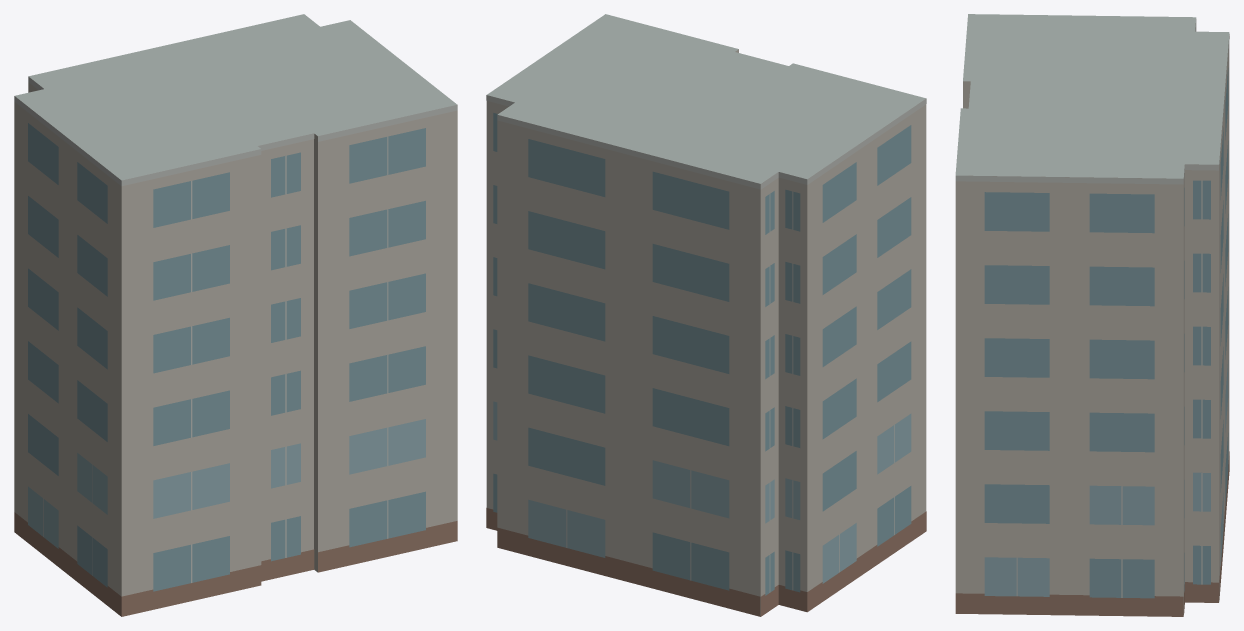
File: survey-upis-32925264.glb
3 renders of one model, left to right at view 1: azimuth 30°, elevation 25°; view 2: azimuth 150°, elevation 25°; view 3: azimuth 270°, elevation 25°, orthographic.
Parts seen in each view (by area): view 1: survey-upis-32925264.tmp; view 2: survey-upis-32925264.tmp; view 3: survey-upis-32925264.tmp.
Boxes of the visible parts, x1=… form: survey-upis-32925264.tmp: x1=14, y1=14, x2=457, y2=616; survey-upis-32925264.tmp: x1=486, y1=14, x2=926, y2=616; survey-upis-32925264.tmp: x1=955, y1=14, x2=1229, y2=616.
Bounding box in the file's own units: 14.88 × 18.45 × 10.46.
